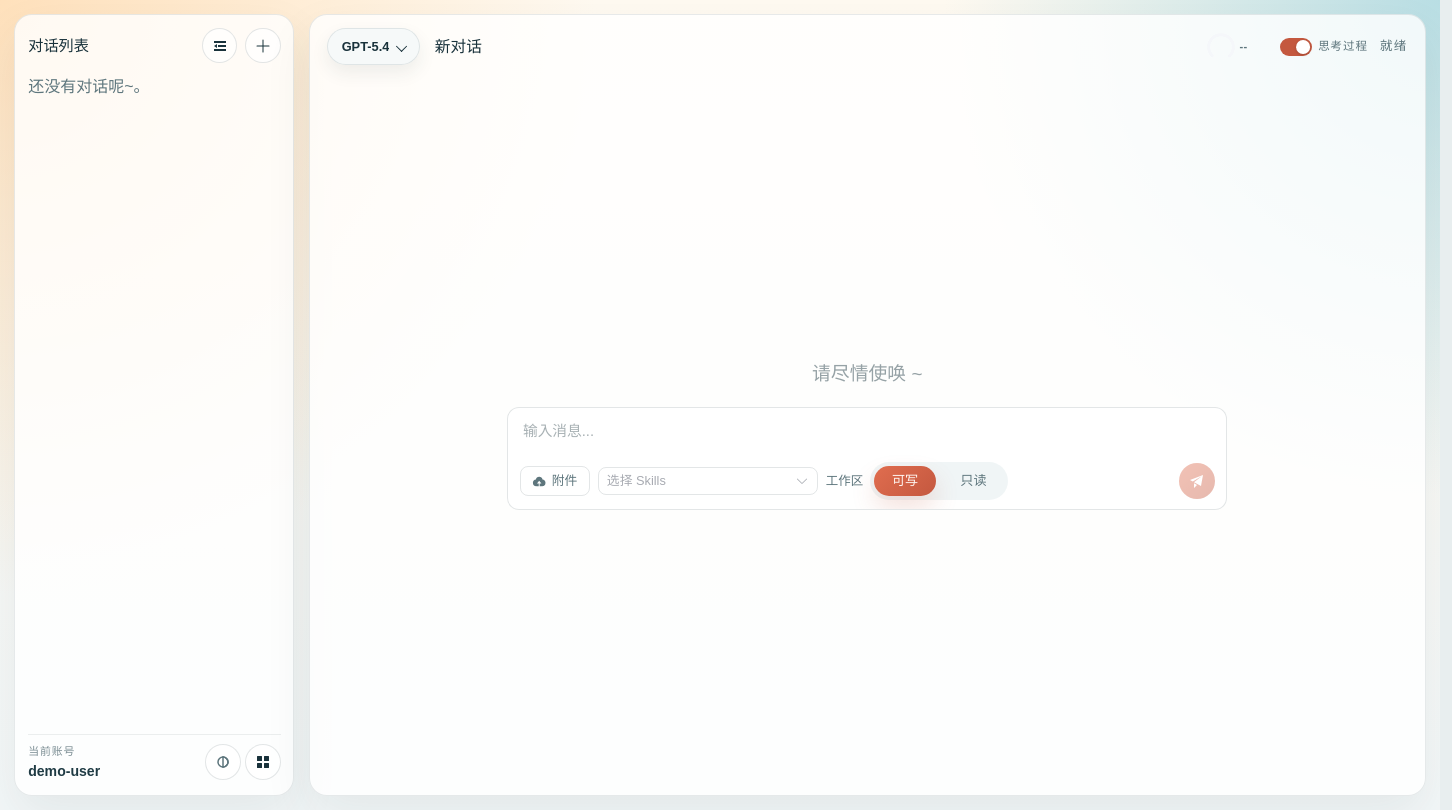
Test: ChatView › renders memory.compressed events in the active conversation transcript while streaming
Type "hello" into the text box with placeholder "输入消息..." at (867, 432), box [523,420,1212,444]
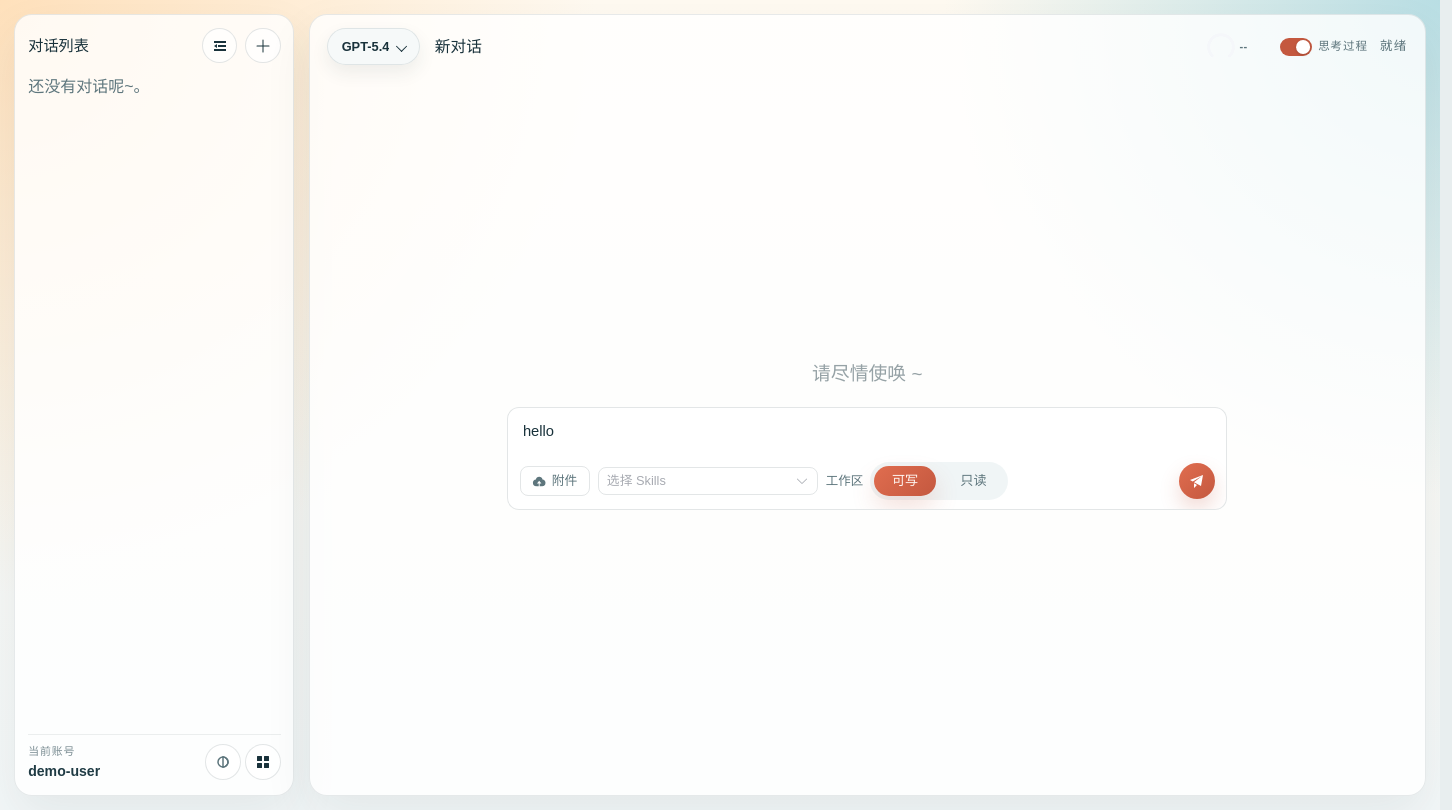
Submit the form, box [507,407,1227,510]
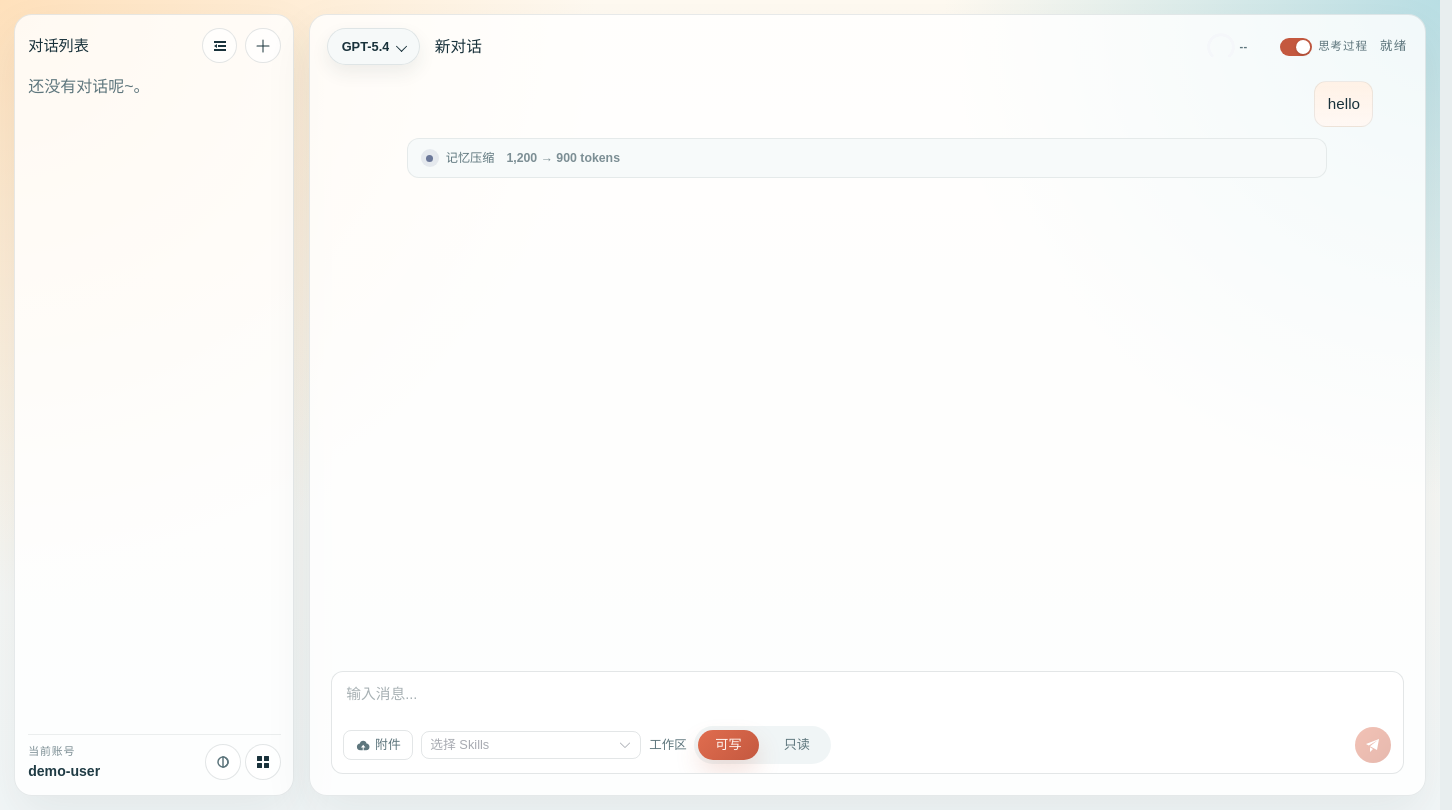
Expected: the text "记忆压缩" is shown, [446,149,494,167]
Expected: the text "1,200 → 900 tokens" is shown, [506,151,620,165]
